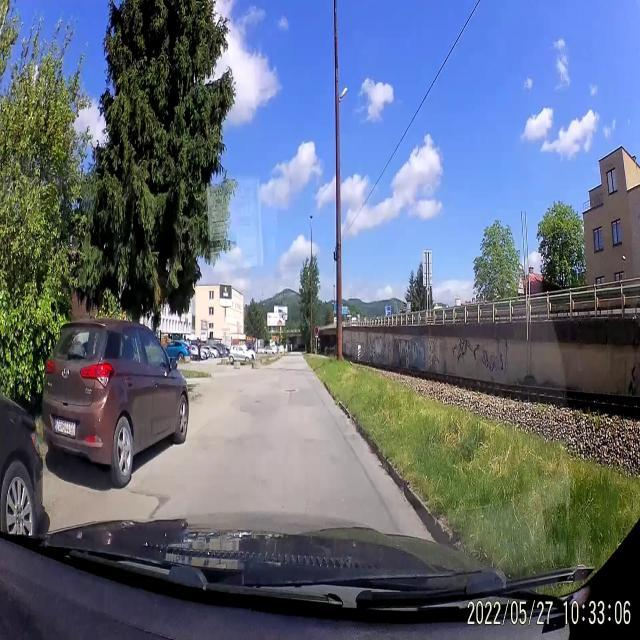Manhole: (286, 386, 296, 396)
Pothole: (191, 390, 203, 406), (252, 396, 260, 408)
